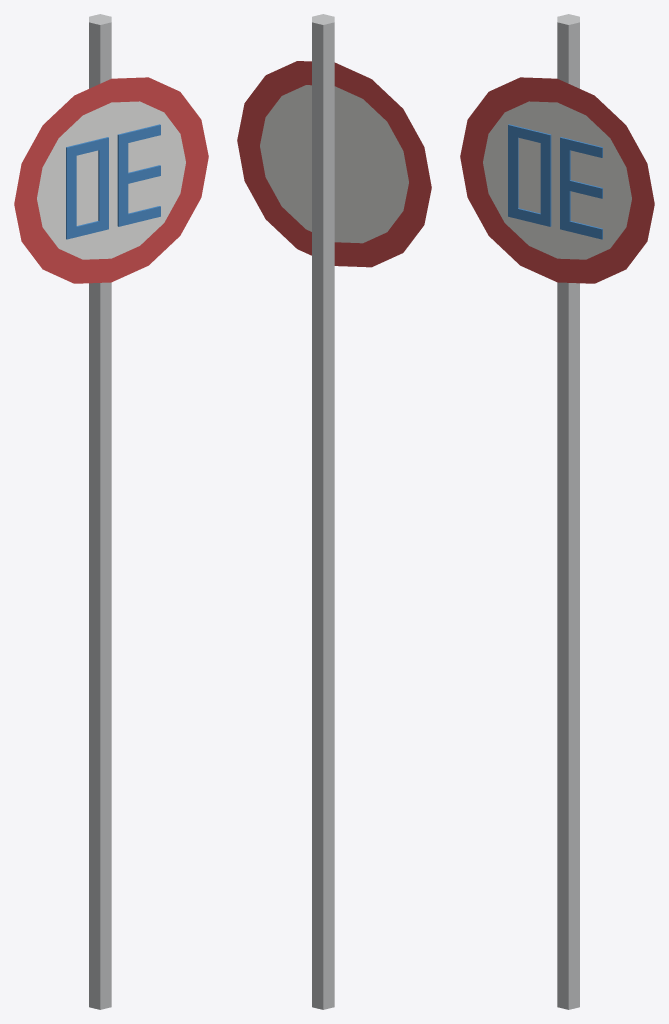
File: HK_Sign_Speed30.glb
3 renders of one model, left to right at view 1: azimuth 30°, elevation 25°; view 2: azimuth 150°, elevation 25°; view 3: azimuth 330°, elevation 25°, orthographic.
Visible parts, largest first — view 1: HK_Sign_Speed30; view 2: HK_Sign_Speed30; view 3: HK_Sign_Speed30.
Boxes of the visible parts, bbox=[...] form: HK_Sign_Speed30: bbox=[14, 14, 208, 1009]; HK_Sign_Speed30: bbox=[237, 14, 431, 1009]; HK_Sign_Speed30: bbox=[460, 14, 654, 1009].
Size of the model in its own units: 0.6 by 2.9 by 0.1028.
